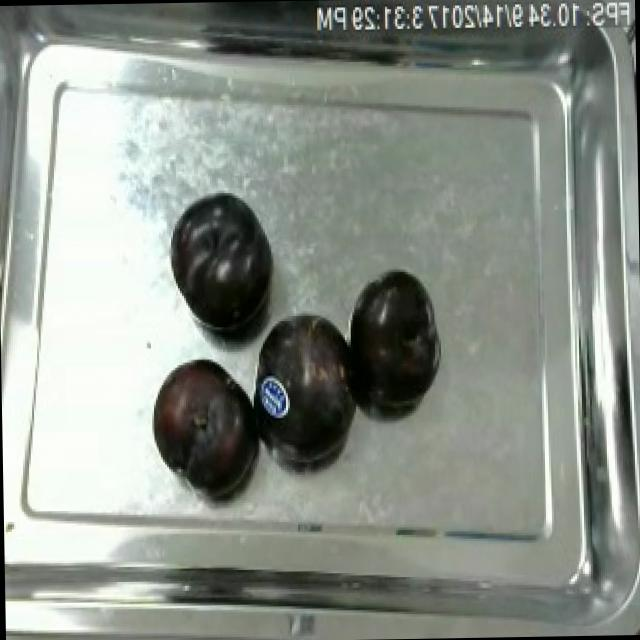Fruit: (245, 302, 368, 469), (166, 186, 280, 342), (147, 350, 259, 494), (341, 263, 444, 417)
